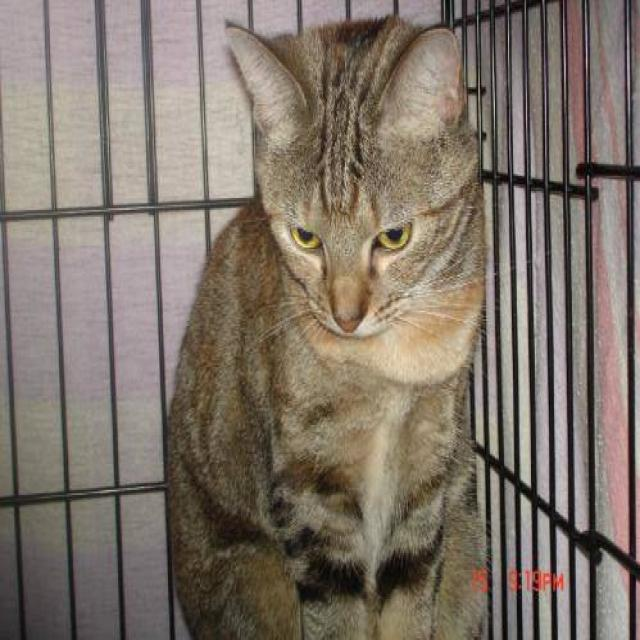cat: (164, 12, 491, 638)
